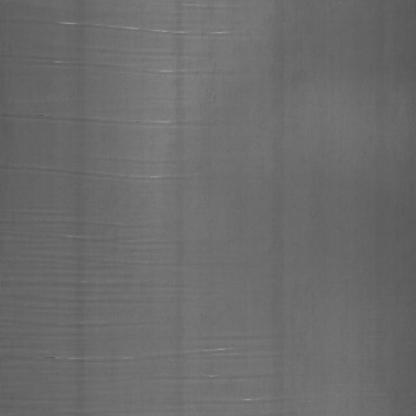waist_folding: (9, 35, 324, 397)
